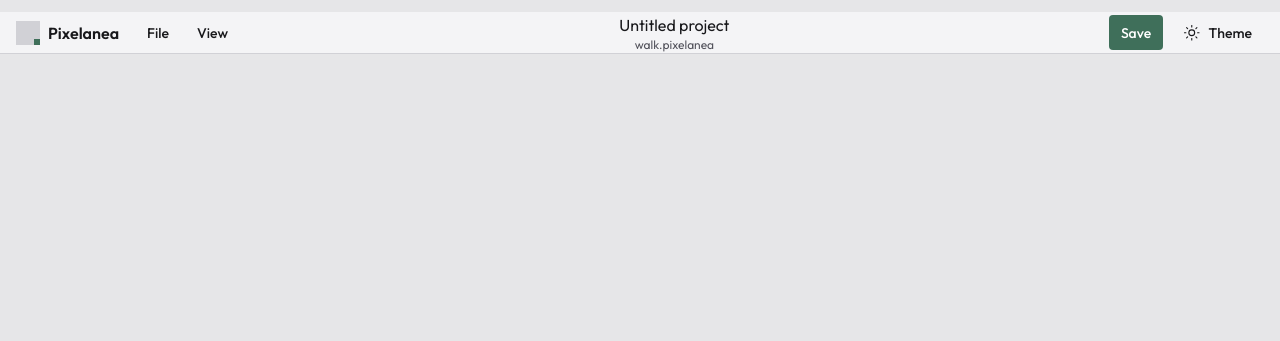
Scenario: AppHeader › shows Export submenu with PNG, spritesheet, and GIF
The width and height of the screenshot is (1280, 341).
Press Enter in the button "File", box [135, 15, 181, 50]
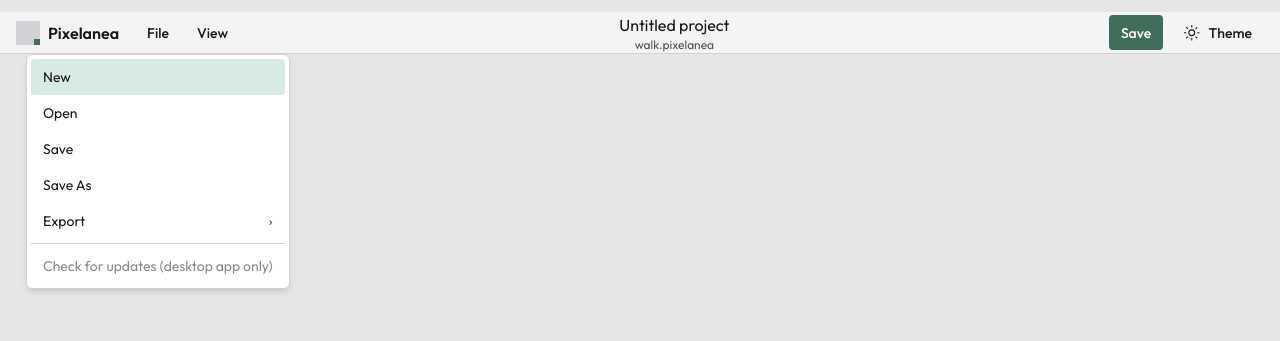
Click the menu item "Export ›".
click(64, 221)  # box [43, 212, 273, 230]
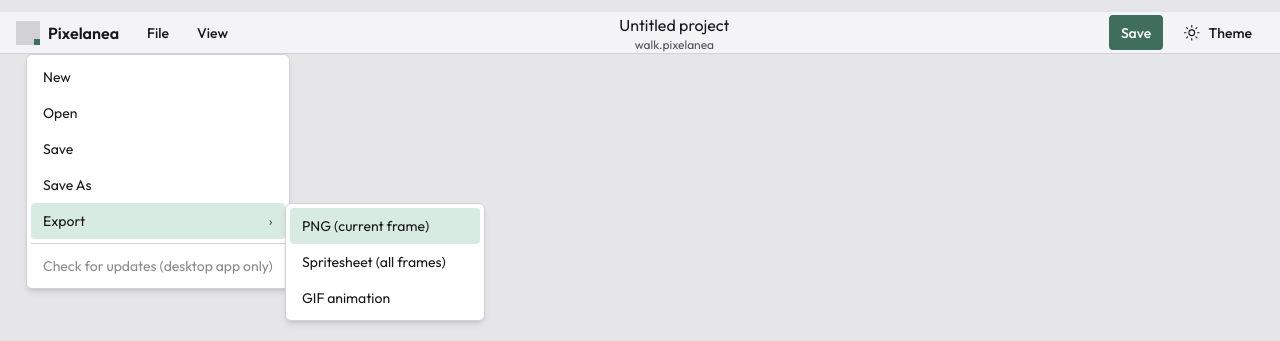
Result: the menu item "PNG (current frame)" is shown at [290, 208, 480, 244]
Result: the menu item "Spritesheet (all frames)" is shown at [302, 253, 446, 271]
Result: the menu item "GIF animation" is shown at [302, 289, 390, 307]
